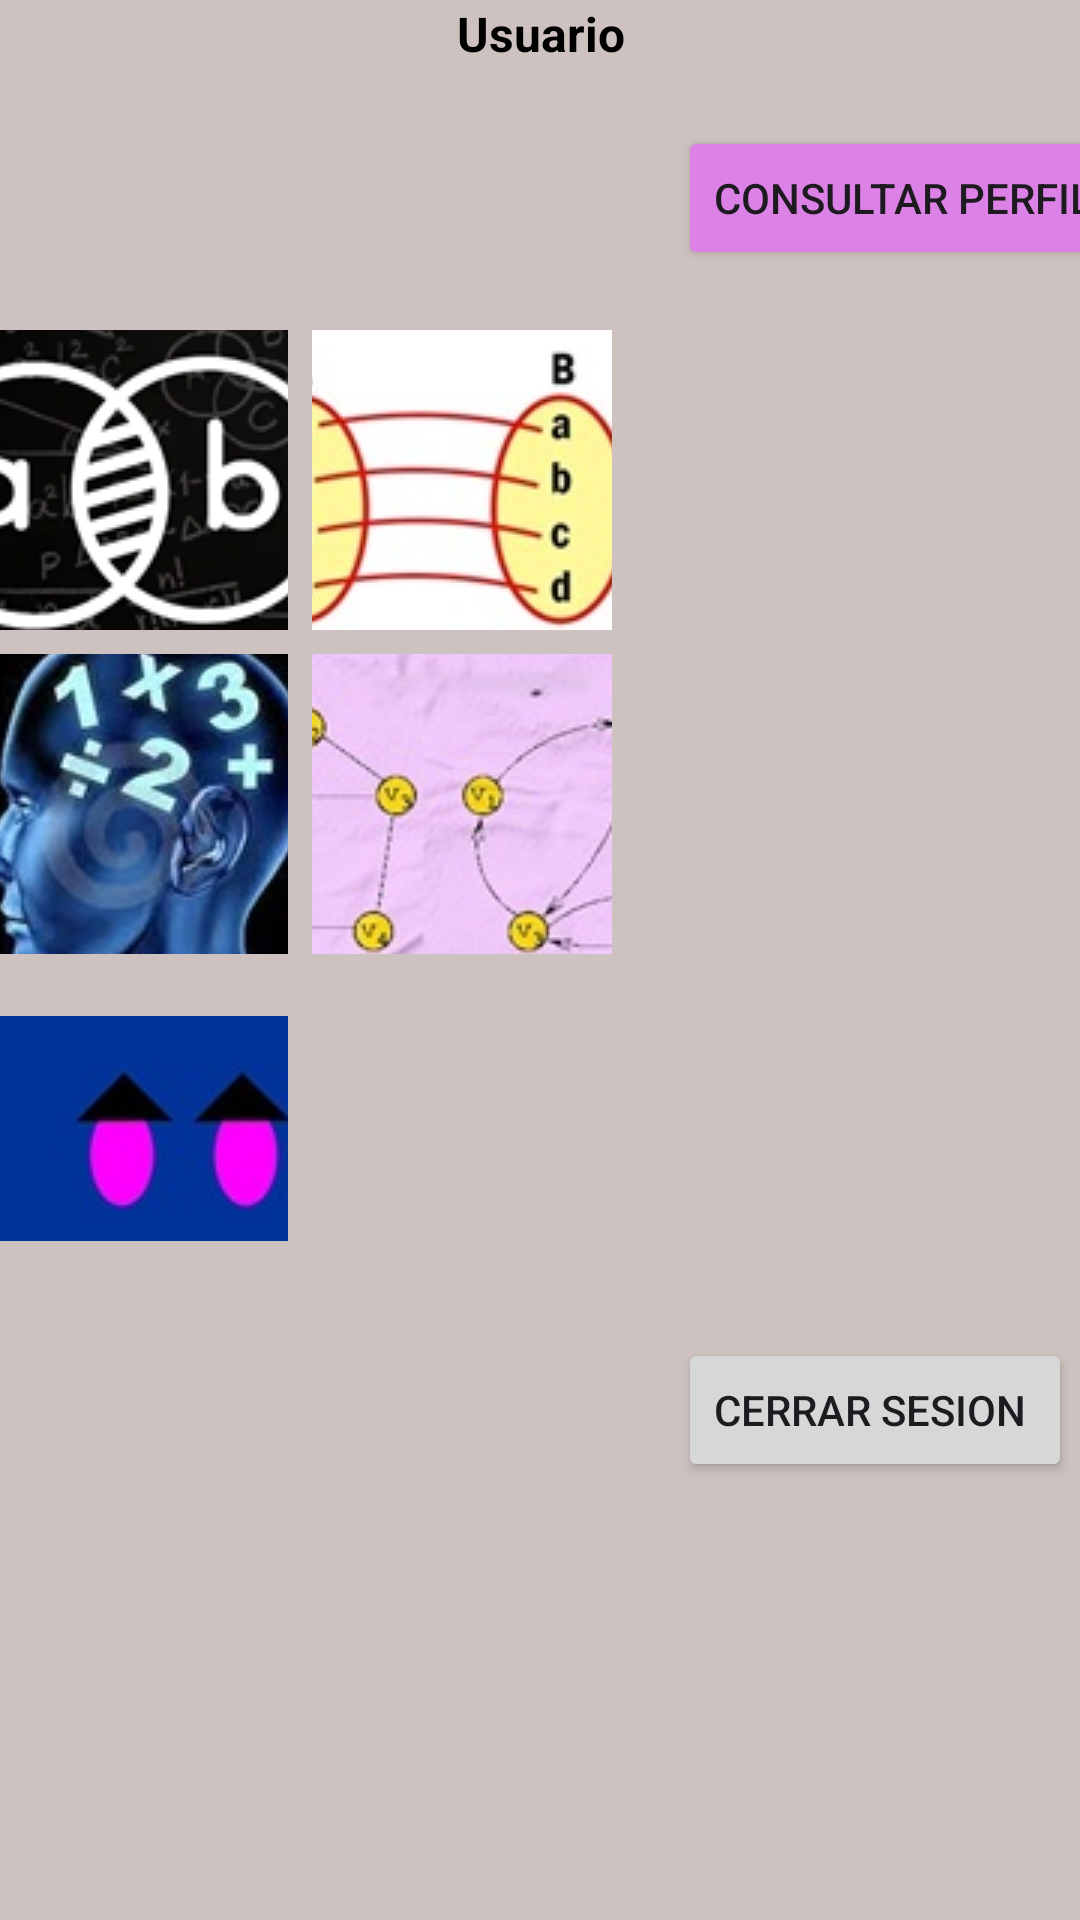

Locate icon controls on the screen. Image size 1080 × 1920, boxes as bbox=[x1, y1, x2, y2].
gráficas para modelar y/o solucionar situaciones: bbox=[312, 654, 612, 954]
Teoria de conjuntos: bbox=[0, 330, 288, 630]
